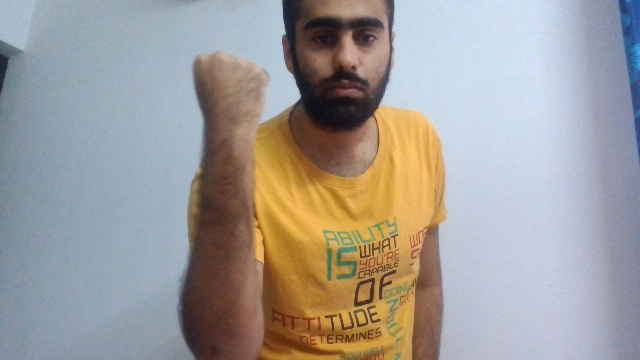rock: (190, 49, 271, 135)
